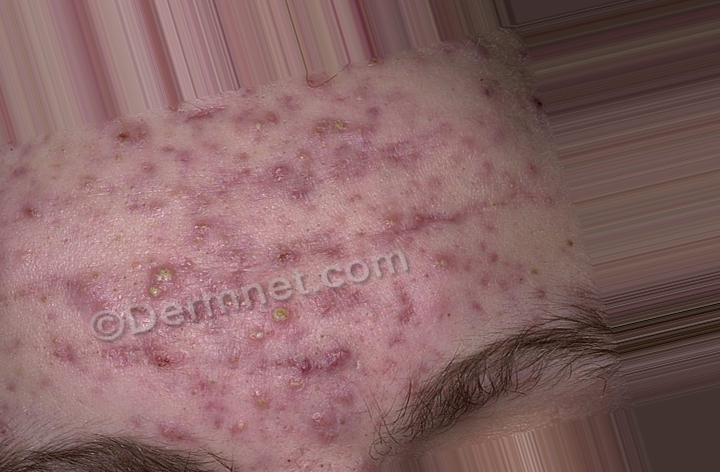Acne: (5, 137, 576, 429)
